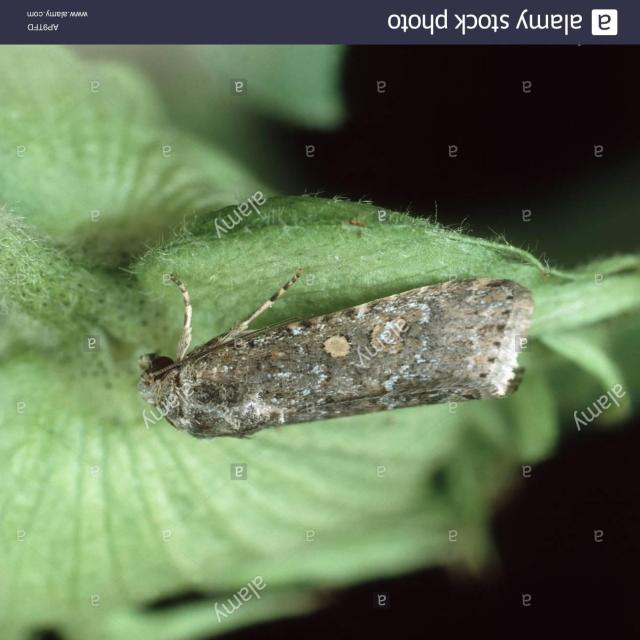army worm: (130, 293, 535, 448)
